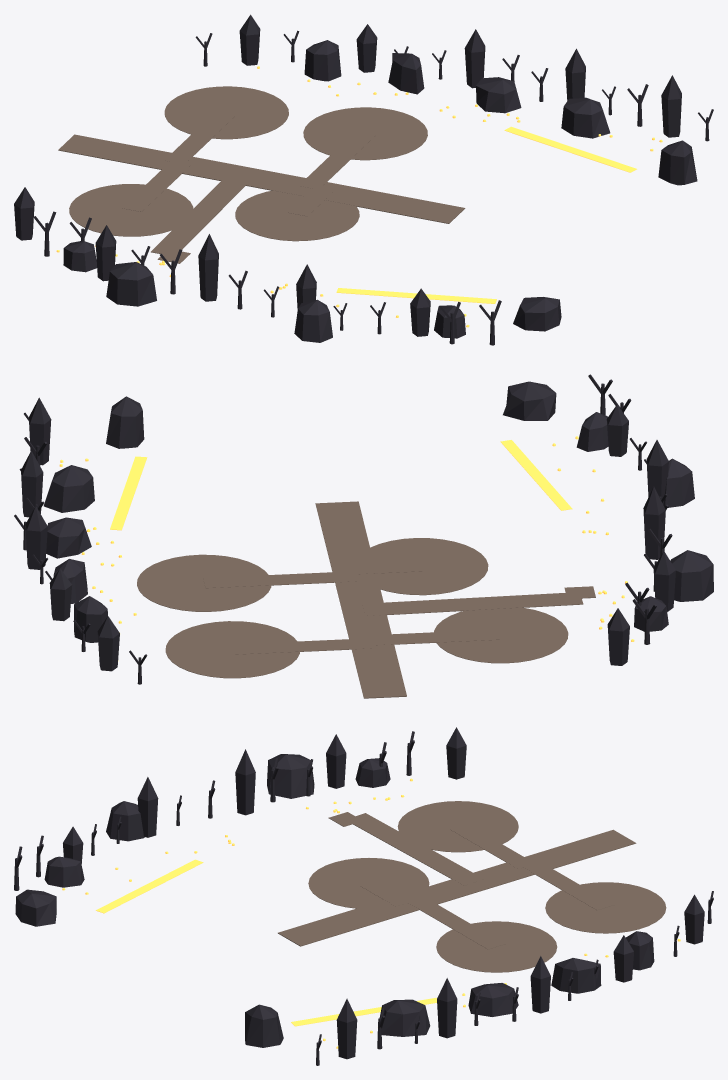
File: Grounds_InfernalCaldera.glb
3 views of the same model, one above another, from view 1: azimuth 30°, elevation 25°; view 2: azimuth 150°, elevation 25°; view 3: azimuth 270°, elevation 25° (orthographic). The views are drawn at different scales.
Visible parts, largest first — view 1: Grounds_InfernalCaldera_InfernalCaldera_path_2_-3, Grounds_InfernalCaldera_InfernalCaldera_path_1_-3, Grounds_InfernalCaldera_InfernalCaldera_path_2_-4, Grounds_InfernalCaldera_InfernalCaldera_dark_1_-4, Grounds_InfernalCaldera_InfernalCaldera_dark_3_-3, Grounds_InfernalCaldera_InfernalCaldera_dark_3_-4, Grounds_InfernalCaldera_InfernalCaldera_dark_1_-5, Grounds_InfernalCaldera_InfernalCaldera_dark_2_-5, Grounds_InfernalCaldera_InfernalCaldera_path_1_-4, Grounds_InfernalCaldera_InfernalCaldera_dark_2_-3, Grounds_InfernalCaldera_InfernalCaldera_dark_2_-2, Grounds_InfernalCaldera_Lava glow_3_-4 (+2 smaller); view 2: Grounds_InfernalCaldera_InfernalCaldera_path_2_-3, Grounds_InfernalCaldera_InfernalCaldera_path_1_-3, Grounds_InfernalCaldera_InfernalCaldera_path_2_-4, Grounds_InfernalCaldera_InfernalCaldera_dark_3_-3, Grounds_InfernalCaldera_InfernalCaldera_dark_1_-4, Grounds_InfernalCaldera_InfernalCaldera_dark_3_-4, Grounds_InfernalCaldera_InfernalCaldera_dark_1_-5, Grounds_InfernalCaldera_InfernalCaldera_dark_2_-5, Grounds_InfernalCaldera_InfernalCaldera_path_1_-4, Grounds_InfernalCaldera_InfernalCaldera_dark_2_-3, Grounds_InfernalCaldera_InfernalCaldera_dark_2_-2, Grounds_InfernalCaldera_InfernalCaldera_dark_1_-3 (+2 smaller); view 3: Grounds_InfernalCaldera_InfernalCaldera_path_2_-3, Grounds_InfernalCaldera_InfernalCaldera_path_1_-3, Grounds_InfernalCaldera_InfernalCaldera_path_2_-4, Grounds_InfernalCaldera_InfernalCaldera_dark_3_-3, Grounds_InfernalCaldera_InfernalCaldera_dark_1_-4, Grounds_InfernalCaldera_InfernalCaldera_dark_3_-4, Grounds_InfernalCaldera_InfernalCaldera_dark_1_-5, Grounds_InfernalCaldera_InfernalCaldera_dark_2_-5, Grounds_InfernalCaldera_InfernalCaldera_path_1_-4, Grounds_InfernalCaldera_InfernalCaldera_dark_2_-3, Grounds_InfernalCaldera_InfernalCaldera_dark_2_-2, Grounds_InfernalCaldera_Lava glow_2_-5 (+2 smaller).
Part boxes in pixels (<box>): Grounds_InfernalCaldera_InfernalCaldera_path_2_-3: <box>164,86,427,196</box>; Grounds_InfernalCaldera_InfernalCaldera_path_1_-3: <box>58,134,198,236</box>; Grounds_InfernalCaldera_InfernalCaldera_path_2_-4: <box>235,183,465,241</box>; Grounds_InfernalCaldera_InfernalCaldera_dark_1_-4: <box>44,211,247,309</box>; Grounds_InfernalCaldera_InfernalCaldera_dark_3_-3: <box>356,24,585,113</box>; Grounds_InfernalCaldera_InfernalCaldera_dark_3_-4: <box>561,75,713,185</box>; Grounds_InfernalCaldera_InfernalCaldera_dark_1_-5: <box>263,264,430,342</box>; Grounds_InfernalCaldera_InfernalCaldera_dark_2_-5: <box>434,297,561,345</box>; Grounds_InfernalCaldera_InfernalCaldera_path_1_-4: <box>151,173,253,263</box>; Grounds_InfernalCaldera_InfernalCaldera_dark_2_-3: <box>283,30,341,81</box>; Grounds_InfernalCaldera_InfernalCaldera_dark_2_-2: <box>195,14,260,66</box>; Grounds_InfernalCaldera_Lava glow_3_-4: <box>504,120,662,172</box>; Grounds_InfernalCaldera_InfernalCaldera_path_2_-3: <box>137,554,391,678</box>; Grounds_InfernalCaldera_InfernalCaldera_path_1_-3: <box>348,607,568,698</box>; Grounds_InfernalCaldera_InfernalCaldera_path_2_-4: <box>315,501,488,595</box>; Grounds_InfernalCaldera_InfernalCaldera_dark_3_-3: <box>14,450,91,621</box>; Grounds_InfernalCaldera_InfernalCaldera_dark_1_-4: <box>625,486,713,644</box>; Grounds_InfernalCaldera_InfernalCaldera_dark_3_-4: <box>19,396,144,512</box>; Grounds_InfernalCaldera_InfernalCaldera_dark_1_-5: <box>606,404,694,507</box>; Grounds_InfernalCaldera_InfernalCaldera_dark_2_-5: <box>503,374,631,451</box>; Grounds_InfernalCaldera_InfernalCaldera_path_1_-4: <box>362,586,595,615</box>; Grounds_InfernalCaldera_InfernalCaldera_dark_2_-3: <box>73,596,107,651</box>; Grounds_InfernalCaldera_InfernalCaldera_dark_2_-2: <box>97,616,147,684</box>; Grounds_InfernalCaldera_InfernalCaldera_dark_1_-3: <box>607,608,629,665</box>; Grounds_InfernalCaldera_InfernalCaldera_path_2_-3: <box>402,862,666,972</box>; Grounds_InfernalCaldera_InfernalCaldera_path_1_-3: <box>397,801,636,875</box>; Grounds_InfernalCaldera_InfernalCaldera_path_2_-4: <box>278,858,429,946</box>; Grounds_InfernalCaldera_InfernalCaldera_dark_3_-3: <box>437,935,633,1038</box>; Grounds_InfernalCaldera_InfernalCaldera_dark_1_-4: <box>208,734,414,818</box>; Grounds_InfernalCaldera_InfernalCaldera_dark_3_-4: <box>245,998,430,1065</box>; Grounds_InfernalCaldera_InfernalCaldera_dark_1_-5: <box>63,777,181,863</box>; Grounds_InfernalCaldera_InfernalCaldera_dark_2_-5: <box>14,835,84,926</box>; Grounds_InfernalCaldera_InfernalCaldera_path_1_-4: <box>328,812,484,885</box>; Grounds_InfernalCaldera_InfernalCaldera_dark_2_-3: <box>626,925,679,970</box>; Grounds_InfernalCaldera_InfernalCaldera_dark_2_-2: <box>684,891,713,944</box>; Grounds_InfernalCaldera_Lava glow_2_-5: <box>62,859,203,913</box>.
Bounding box in the file's own units: 328 × 37.24 × 324.
